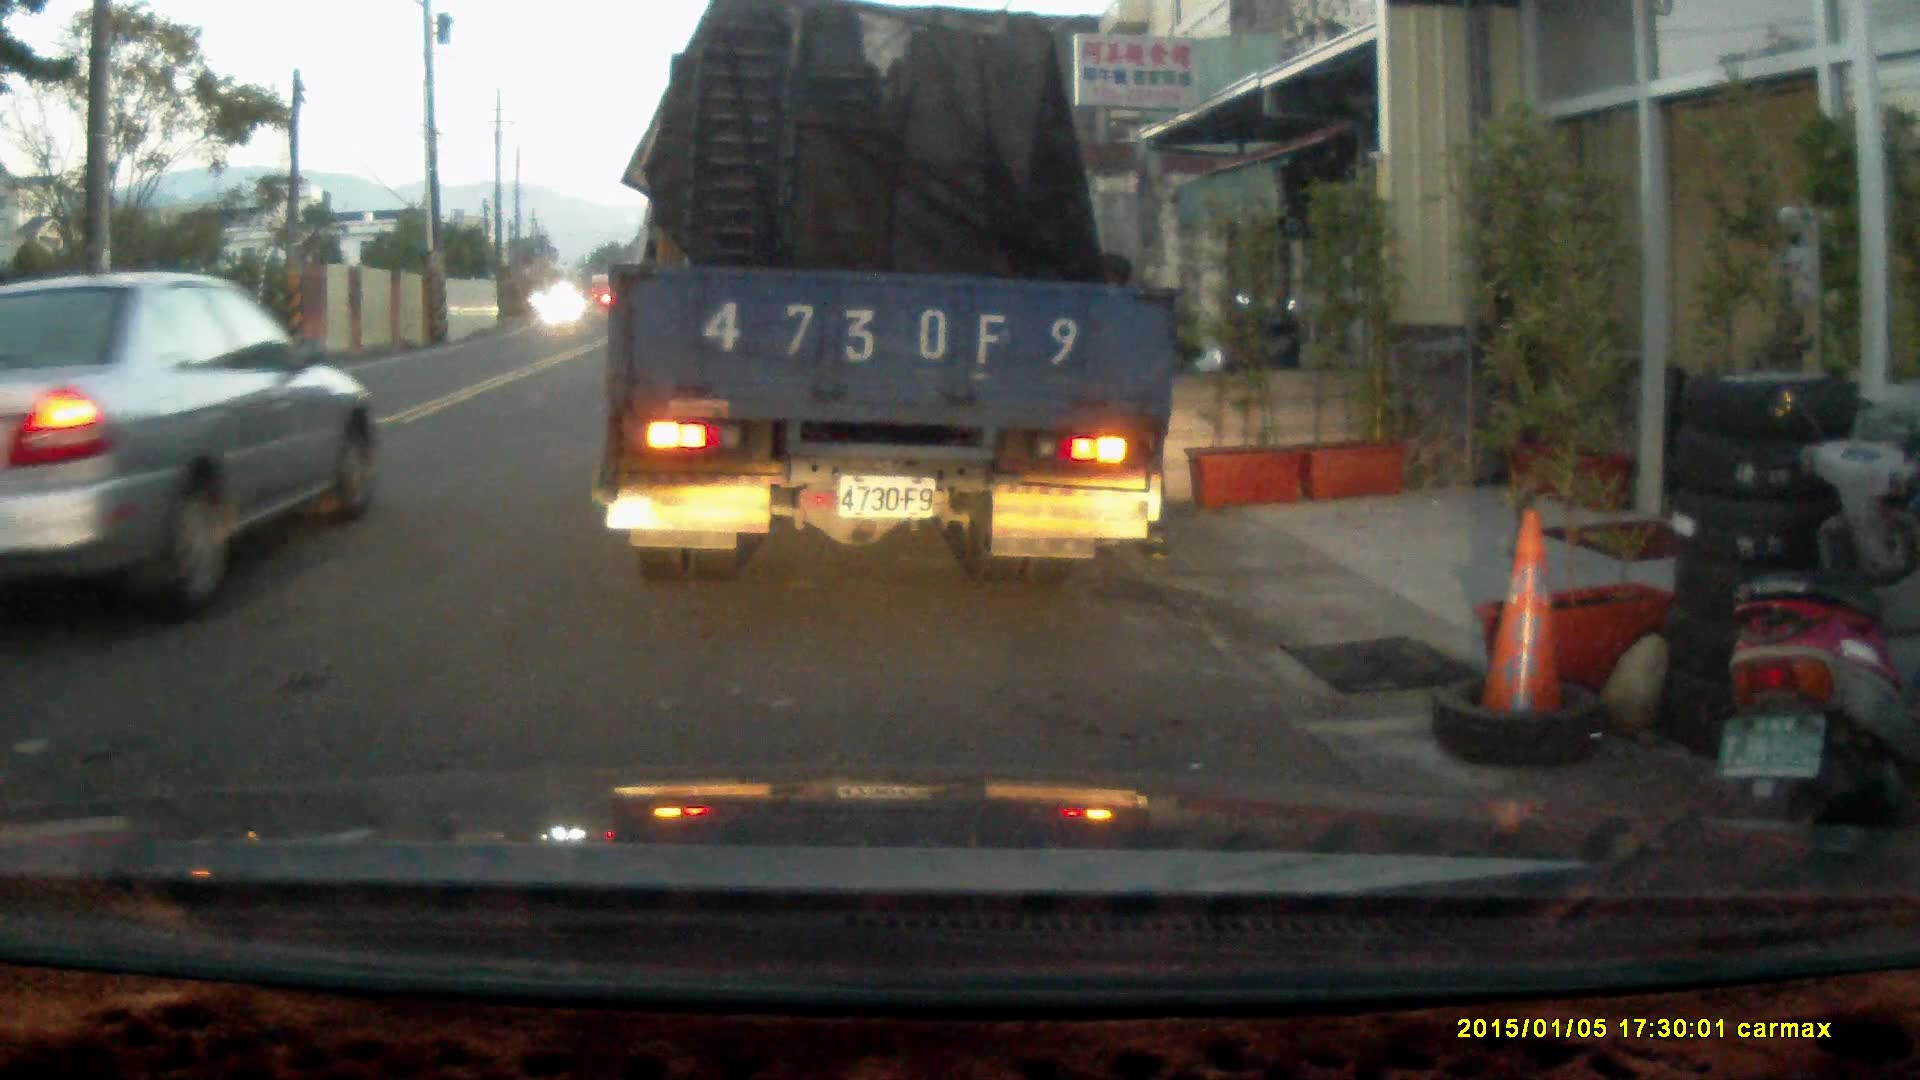pedestrian: (1747, 226, 1835, 476)
vehicle: (605, 23, 1188, 572), (1, 274, 380, 615)
